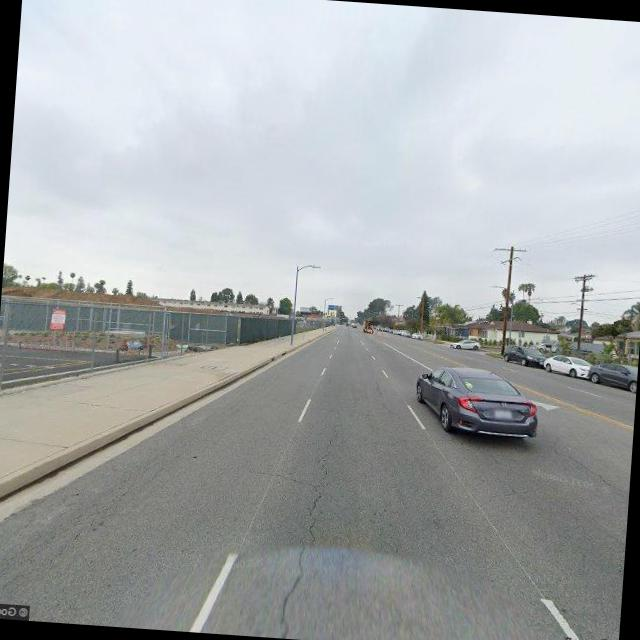pothole: (261, 431, 335, 640), (301, 421, 342, 546)
